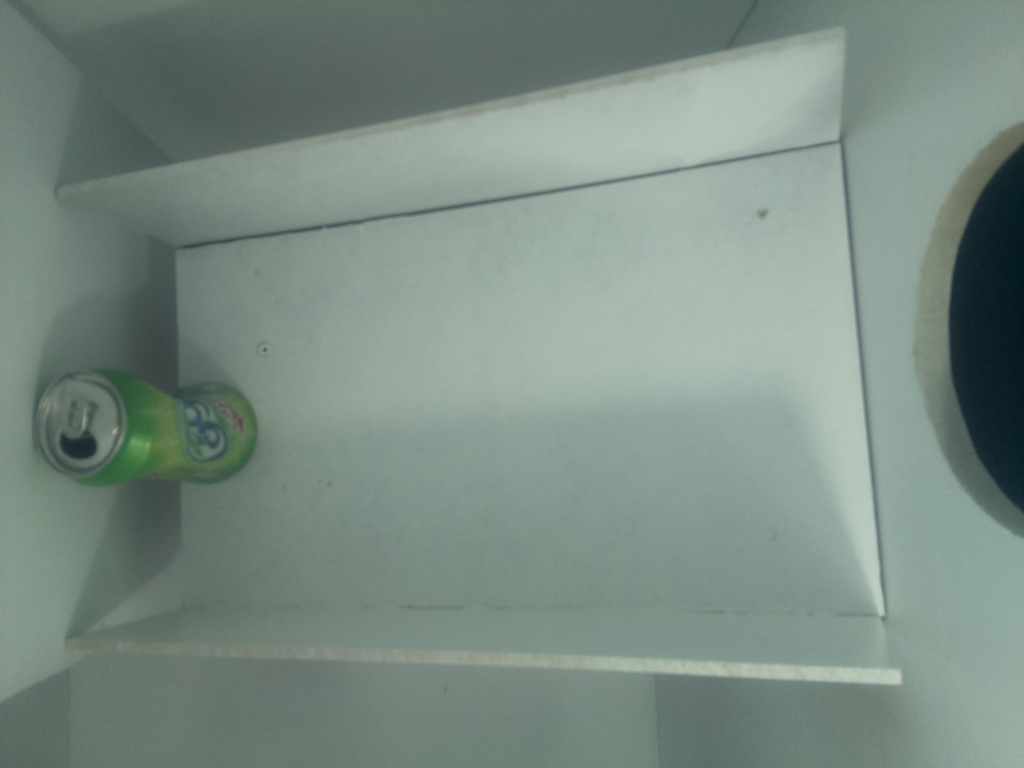kaleng: (29, 364, 260, 488)
